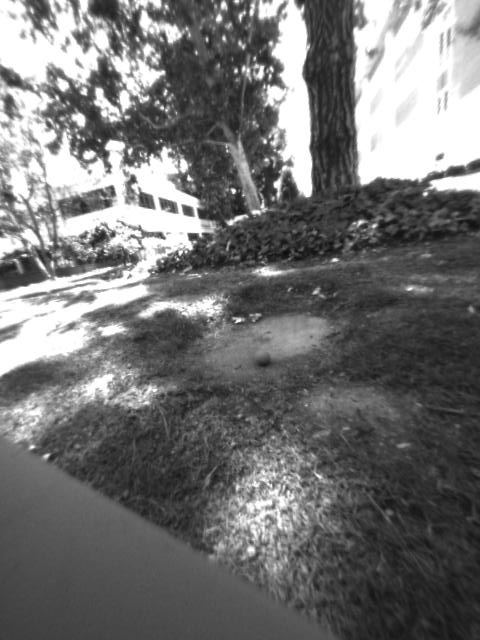dogtoy: (246, 340, 280, 371)
